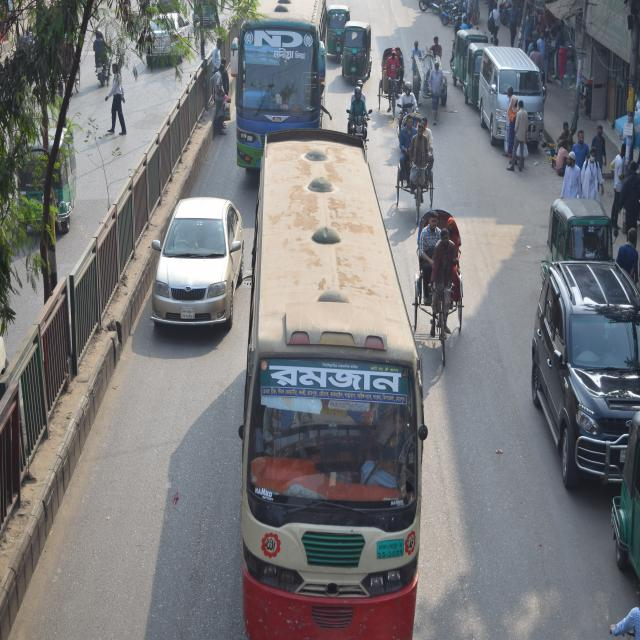bus: (251, 141, 431, 631), (238, 12, 320, 162)
car: (531, 244, 640, 483), (155, 187, 247, 342), (144, 11, 203, 68)
microbus: (474, 40, 549, 161)
motorbike: (346, 85, 377, 145)
